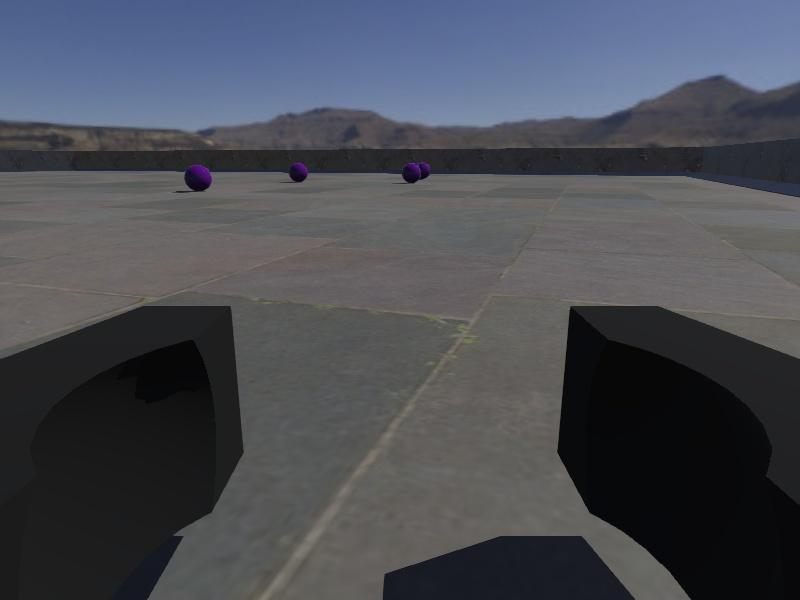violet ball: (185, 165, 212, 192), (288, 162, 308, 181), (402, 163, 422, 182)
